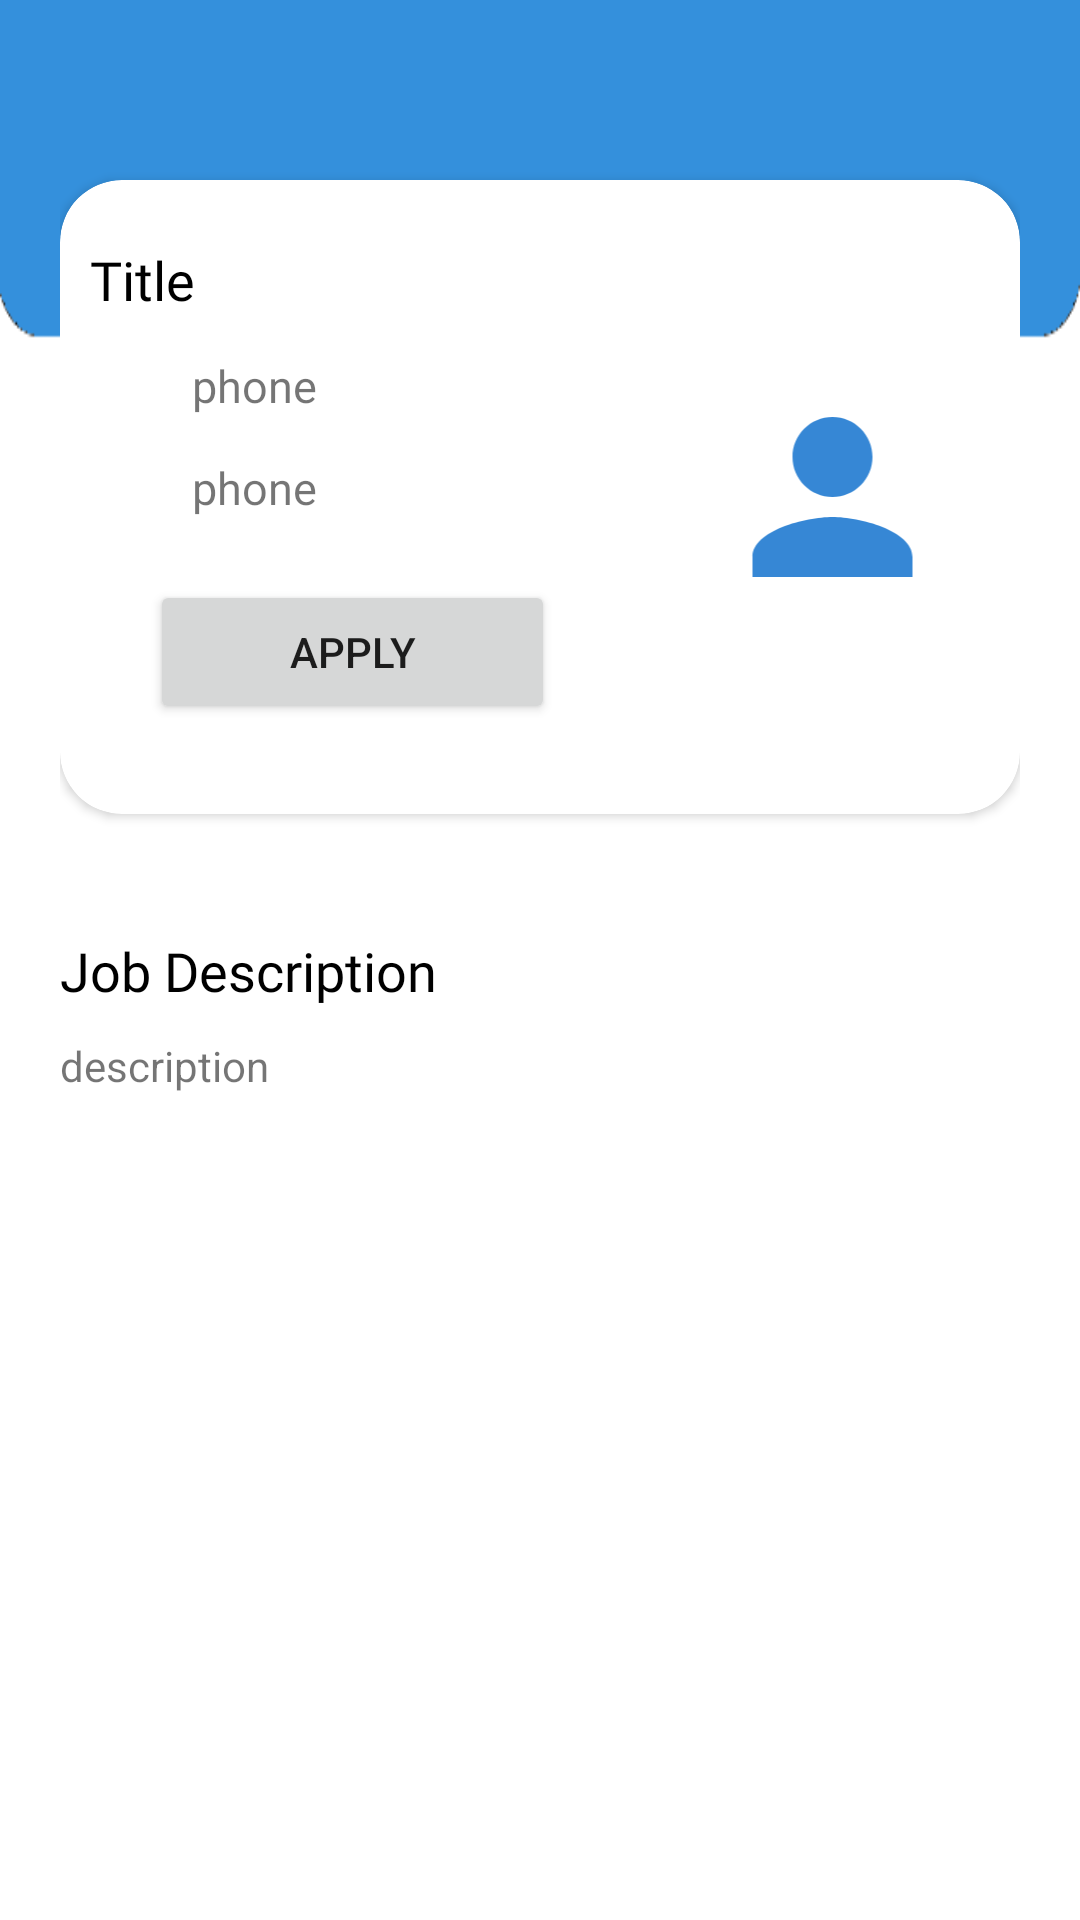

Icons on this 1080*1920 Android screen, each with the point to tap as (x,y):
user: (832,497)
